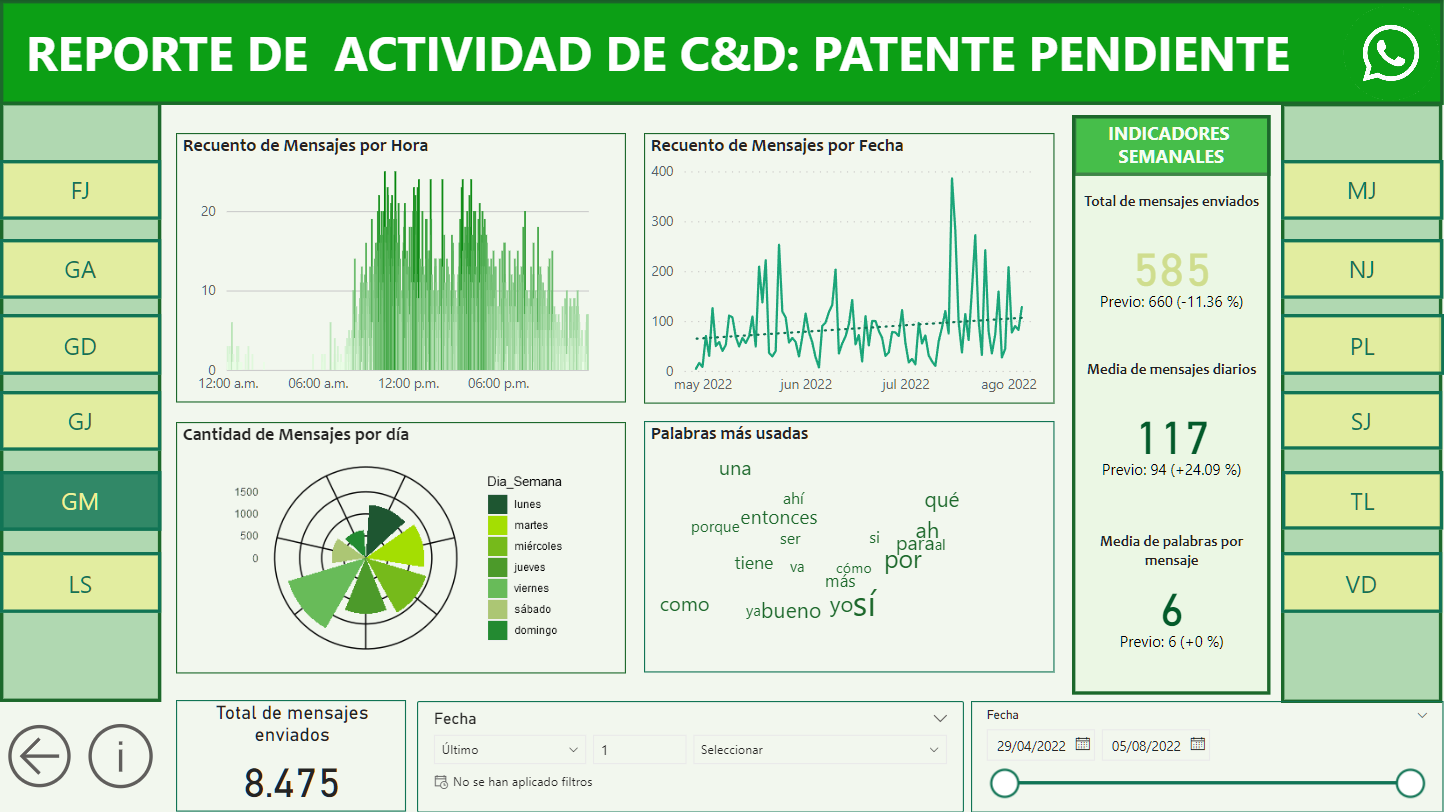

This screenshot's page, from the dashboard's own definition file:
{"tool":"powerbi","page":{"name":"GM","canvas":[1280,720],"ordinal":5},"visuals":[{"type":"shape","box":[0,112.6,199.5,523.2],"z":0},{"type":"shape","box":[0,0,1280,118.7],"z":1000},{"type":"image","box":[1167.2,5.8,112.8,106],"z":2000},{"type":"textbox","box":[0,24.3,1167.2,69.1],"z":3000},{"type":"shape","box":[1080,112.6,199.5,523.2],"z":4000},{"type":"slicer","fields":{"Values":["whatsapp_chat mychats.Fecha"]},"box":[420.6,636.2,439.8,84.3],"z":5000},{"type":"columnChart","title":"Recuento de Mensajes por Hora","fields":{"Category":["whatsapp_chat mychats.Hora"],"Y":["CountNonNull(whatsapp_chat mychats.Indice)"]},"box":[640.2,118.8,439.8,275.8],"z":6000},{"type":"donutChart","title":"Proporción de Sentimiento por Mensajes","fields":{"Category":["whatsapp_chat mychats.Sentimiento"],"Y":["CountNonNull(whatsapp_chat mychats.Indice)"]},"box":[199.5,394.6,440.7,241.2],"z":7000},{"type":"lineChart","title":"Recuento de Mensajes por Fecha","fields":{"Y":["CountNonNull(whatsapp_chat mychats.Indice)"],"Category":["whatsapp_chat mychats.Fecha"]},"box":[200.4,118.8,439.8,275.8],"z":8000},{"type":"actionButton","box":[0,518.7,199.5,53.2],"z":9000},{"type":"actionButton","box":[0,445.1,199.5,53.2],"z":10000},{"type":"actionButton","box":[0,374.2,199.5,53.2],"z":11000},{"type":"actionButton","box":[0,306.8,199.5,53.2],"z":12000},{"type":"actionButton","box":[0,239.4,199.5,53.2],"z":13000},{"type":"actionButton","box":[0,169.4,199.5,53.2],"z":14000},{"type":"actionButton","box":[1080.4,518.7,199.5,53.2],"z":15000},{"type":"actionButton","box":[1080.4,445.1,199.5,53.2],"z":16000},{"type":"actionButton","box":[1080.4,374.2,199.5,53.2],"z":17000},{"type":"actionButton","box":[1080.4,306.8,199.5,53.2],"z":18000},{"type":"actionButton","box":[1080.4,239.4,199.5,53.2],"z":19000},{"type":"actionButton","box":[1080.4,169.4,199.5,53.2],"z":20000},{"type":"WordCloud1447959067750","title":"Palabras más usadas","fields":{"Category":["whatsapp_chat mychats.Mensaje"],"Values":["CountNonNull(whatsapp_chat mychats.Indice)"]},"box":[640,392.8,315.2,243.4],"z":21000},{"type":"actionButton","box":[113.1,636.2,86.2,83.4],"z":22000},{"type":"card","title":"Total de mensajes enviados","fields":{"Values":["CountNonNull(whatsapp_chat mychats.Indice)"]},"box":[199.5,635.8,220.8,84.2],"z":23000},{"type":"actionButton","box":[0,638.1,75.7,80.5],"z":24000},{"type":"slicer","fields":{"Values":["whatsapp_chat mychats.Fecha"]},"box":[860.4,635.7,418.7,84.3],"z":25000},{"type":"card","title":"Media de Palabras por Mensaje","fields":{"Values":["Tabla_Medidas.Media_Palabras_Por_Mensaje"]},"box":[955.2,394.7,124.6,123.6],"z":25001},{"type":"card","title":"Total de Palabras enviadas","fields":{"Values":["Sum(whatsapp_chat mychats.Cantidad_Palabras)"]},"box":[954.3,518.3,125.5,117.8],"z":25002}]}

Visuals, with their boxes in screenshot pixels (x1, y1, x2, y2), scaled from the page's 1280x720 canvas onto the 1444x812 screenshot:
shape: 0:127:225:717
shape: 0:0:1443:134
image: 1317:7:1443:126
textbox: 0:27:1317:105
shape: 1218:127:1443:717
slicer - whatsapp_chat mychats.Fecha: 474:717:971:811
"Recuento de Mensajes por Hora" columnChart: 722:134:1218:445
"Proporción de Sentimiento por Mensajes" donutChart: 225:445:722:717
"Recuento de Mensajes por Fecha" lineChart: 226:134:722:445
actionButton: 0:585:225:645
actionButton: 0:502:225:562
actionButton: 0:422:225:482
actionButton: 0:346:225:406
actionButton: 0:270:225:330
actionButton: 0:191:225:251
actionButton: 1219:585:1443:645
actionButton: 1219:502:1443:562
actionButton: 1219:422:1443:482
actionButton: 1219:346:1443:406
actionButton: 1219:270:1443:330
actionButton: 1219:191:1443:251
"Palabras más usadas" WordCloud1447959067750: 722:443:1078:717
actionButton: 128:717:225:811
"Total de mensajes enviados" card: 225:717:474:811
actionButton: 0:720:85:810
slicer - whatsapp_chat mychats.Fecha: 971:717:1443:811
"Media de Palabras por Mensaje" card: 1078:445:1218:585
"Total de Palabras enviadas" card: 1077:585:1218:717
